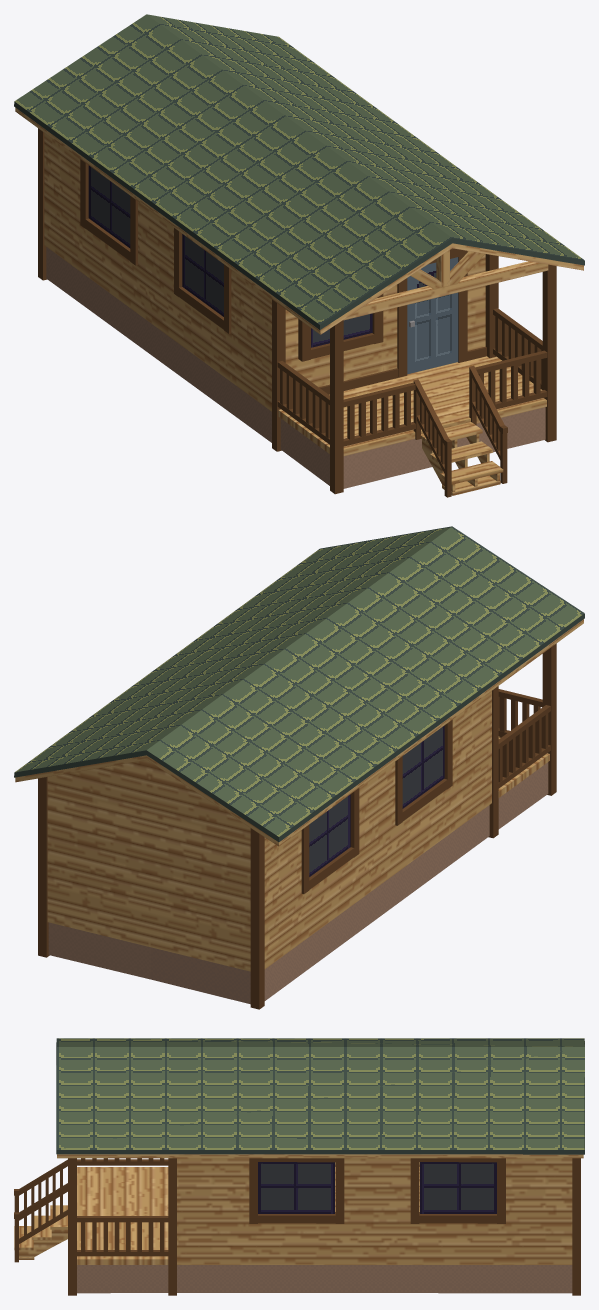
The model's file is cabin.fbx.
3 views of the same model, one above another, from view 1: azimuth 30°, elevation 25°; view 2: azimuth 150°, elevation 25°; view 3: azimuth 270°, elevation 25° (orthographic). The views are drawn at different scales.
Parts seen in each view (by area): view 1: roof, house, house.003, house.004, house.007, door, house.002, Cube.013, Cube.011, Cube.012, house.005, house.006 (+5 smaller); view 2: roof, house, house.003, house.007, house.004, Cube.011, house.001, Cube.012; view 3: roof, house, house.003, house.007, house.004, house.001, Cube.013, Cube.011, Cube.017, Cube.018.
Boxes of the visible parts, x1,y1,x2,y2 form: roof: (14,14,584,334); house: (44,133,546,455); house.003: (46,247,545,488); house.004: (38,128,556,494); house.007: (80,159,231,333); door: (407,257,458,374); house.002: (343,250,548,320); Cube.013: (420,422,503,495); Cube.011: (280,316,542,438); Cube.012: (347,359,540,439); house.005: (319,248,486,394); house.006: (298,294,383,361); roof: (14,526,584,846); house: (47,691,549,971); house.003: (48,762,548,1004); house.007: (301,720,452,893); house.004: (38,643,556,1009); Cube.011: (498,713,548,782); house.001: (498,705,550,788); Cube.012: (499,697,540,731); roof: (56,1038,584,1158); house: (77,1158,572,1264); house.003: (77,1265,572,1293); house.007: (249,1158,505,1223); house.004: (68,1158,580,1295); house.001: (77,1159,168,1256); Cube.013: (14,1205,67,1259); Cube.011: (81,1158,164,1251); Cube.017: (14,1159,67,1243); Cube.018: (24,1169,62,1236).
Bounding box in the file's own units: 1291 × 1093 × 2791.
